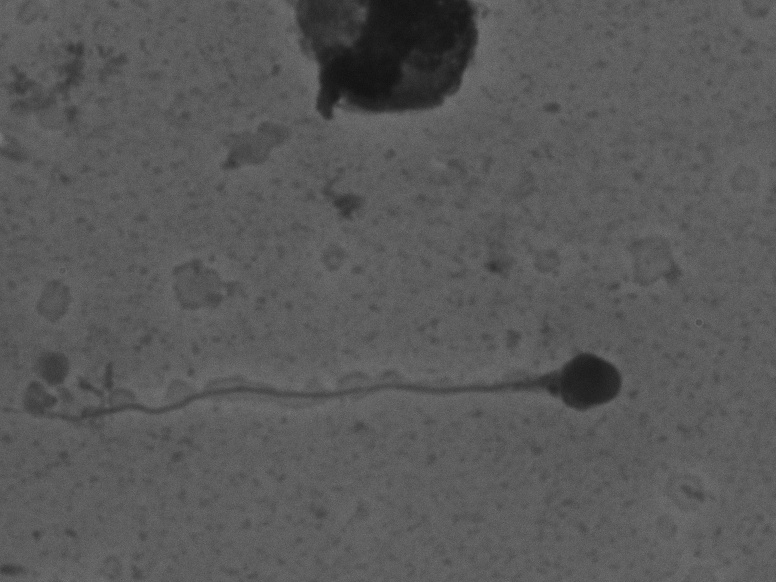Abnormal: (21, 344, 648, 455)
